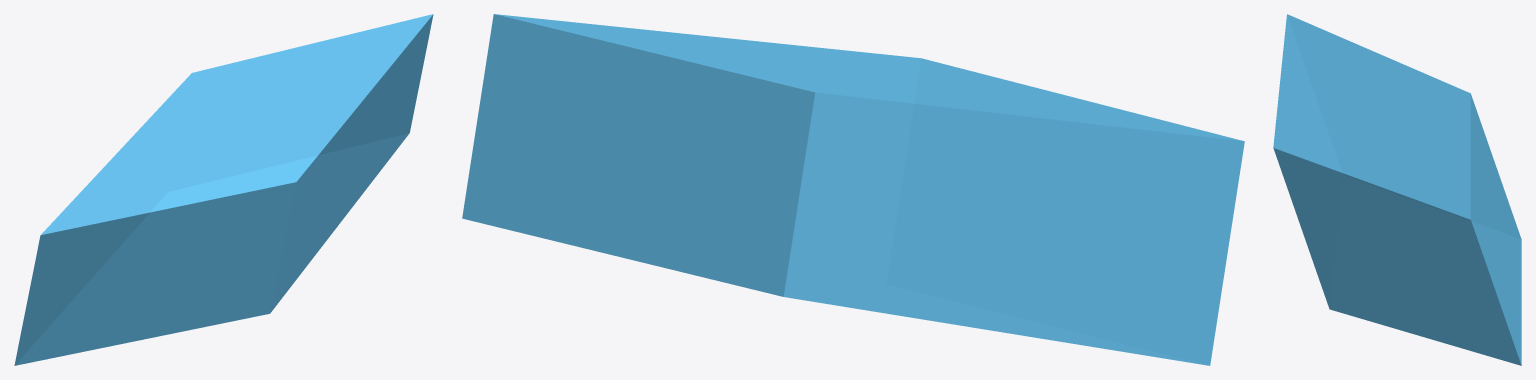
The model's file is Event_421556567_HBrechit_10.fbx.
3 views of the same model, side by side, from view 1: azimuth 30°, elevation 25°; view 2: azimuth 150°, elevation 25°; view 3: azimuth 270°, elevation 25° (orthographic). The views are drawn at different scales.
Parts seen in each view (by area): view 1: Model; view 2: Model; view 3: Model.
Boxes of the visible parts, bbox=[...] form: Model: bbox=[14, 14, 433, 365]; Model: bbox=[462, 14, 1244, 365]; Model: bbox=[1273, 14, 1521, 365].
Size of the model in its own units: 1.41 by 0.5492 by 0.5899.
